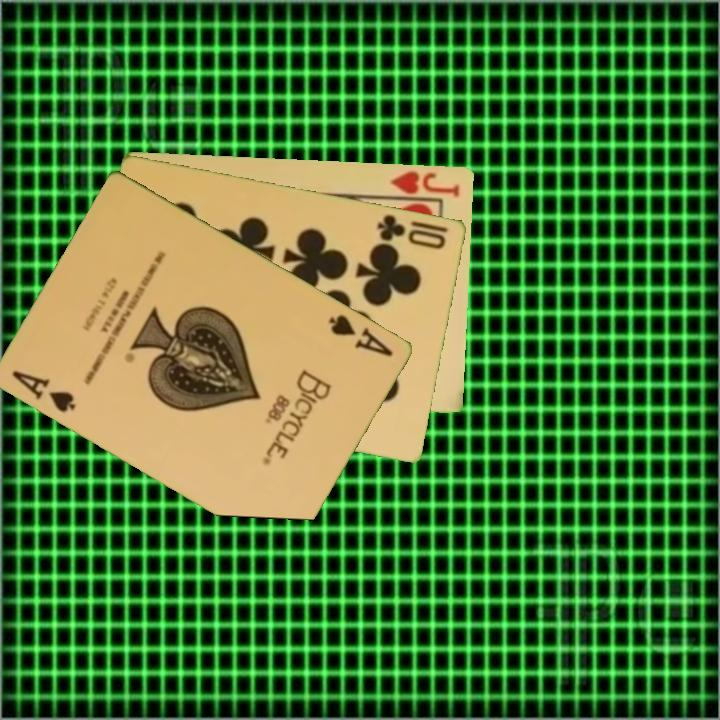10c: (374, 210, 449, 252)
As: (325, 310, 397, 360), (9, 366, 79, 416)
Jh: (388, 167, 463, 200)
